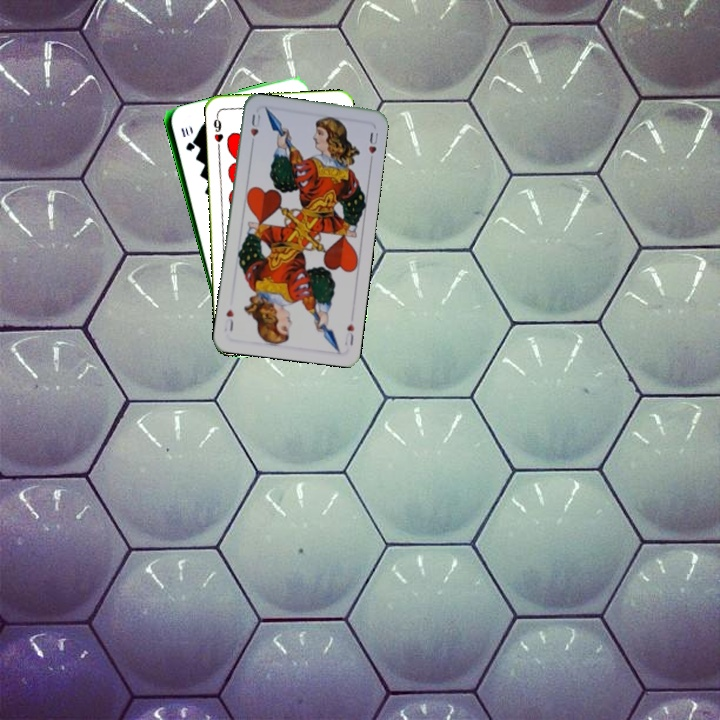G10: (177, 123, 195, 154)
H9: (209, 110, 226, 151)
HU: (246, 110, 263, 149), (341, 319, 357, 348)
